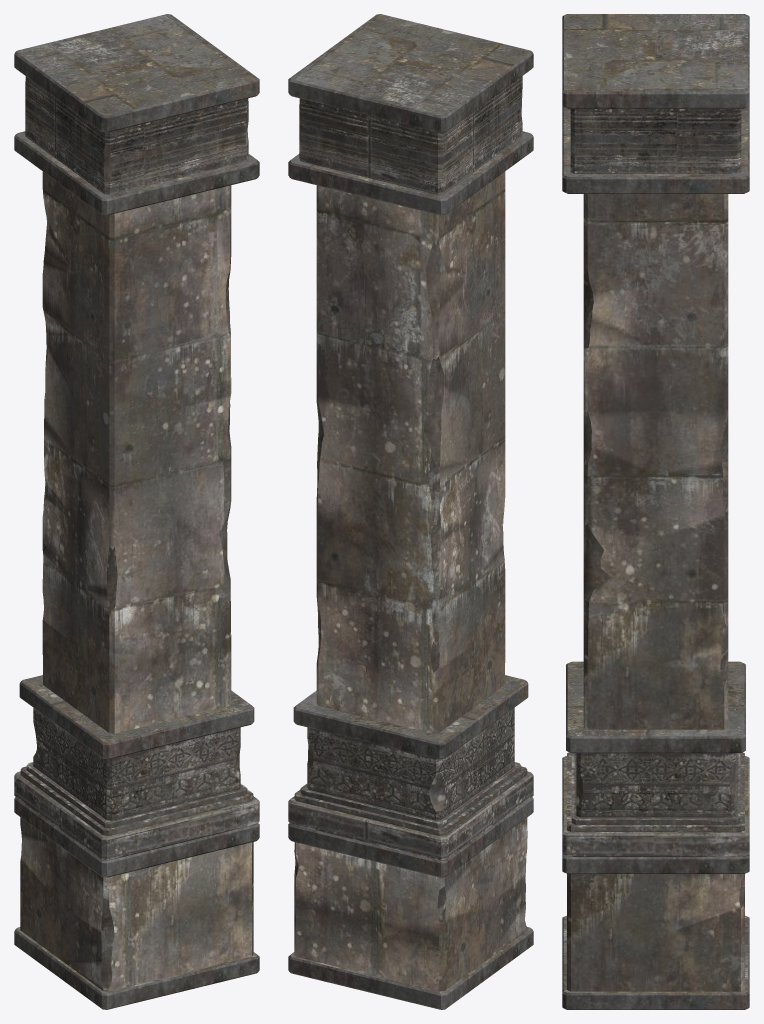
Rendered from cargo_ruin_column_c.glb.
3 renders of one model, left to right at view 1: azimuth 30°, elevation 25°; view 2: azimuth 150°, elevation 25°; view 3: azimuth 270°, elevation 25°, orthographic. The views are drawn at different scales.
Visible parts, largest first — view 1: KB3D_SOL_PropRuinColumn_C; view 2: KB3D_SOL_PropRuinColumn_C; view 3: KB3D_SOL_PropRuinColumn_C.
Part boxes in pixels (x1,y1,x2,y2): KB3D_SOL_PropRuinColumn_C: (14, 14, 259, 1009); KB3D_SOL_PropRuinColumn_C: (288, 14, 533, 1009); KB3D_SOL_PropRuinColumn_C: (562, 14, 749, 1009).
Bounding box in the file's own units: 3 × 16.2 × 3.
Materials: 4 (4 with a texture image).
